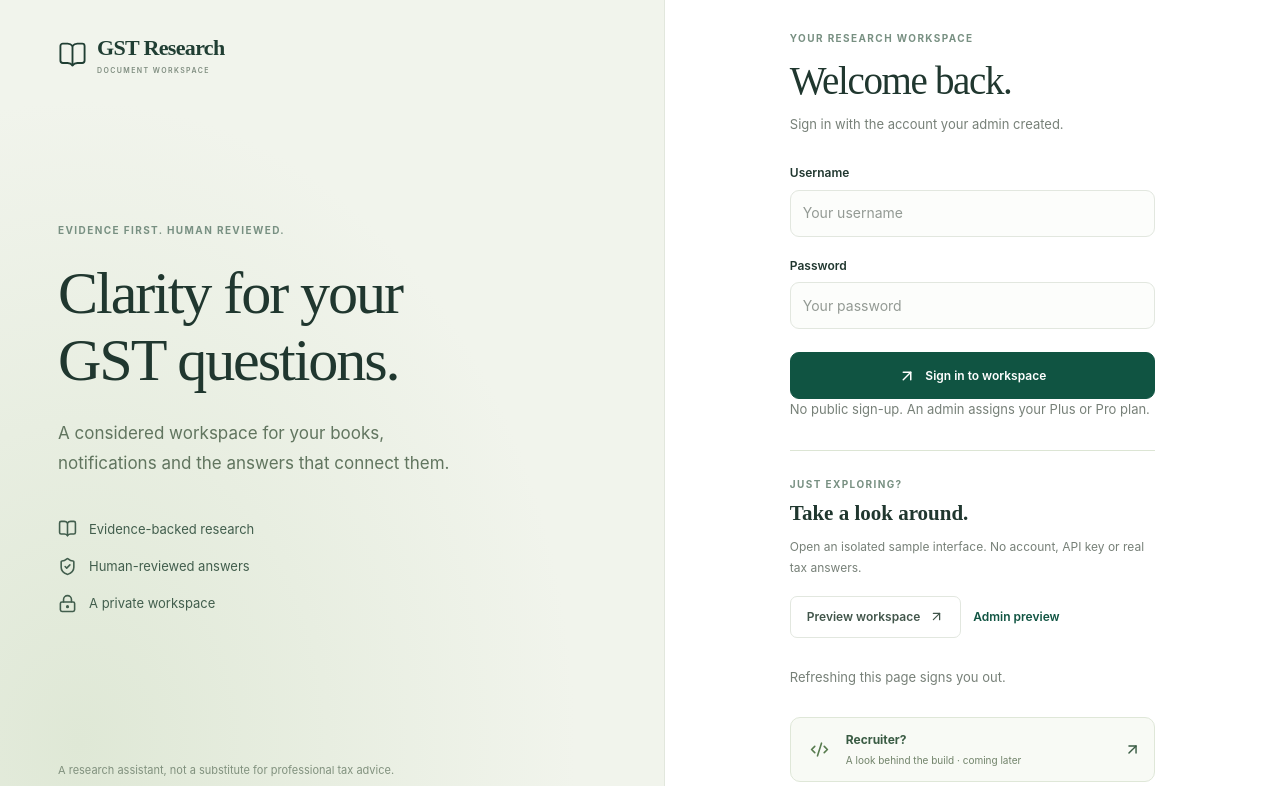
Test: User workspace › displays approved plain-text citations, never a PDF download link
Click the button "Preview workspace": click(876, 617) x1=790 y1=596 x2=961 y2=638
(page scrolled)
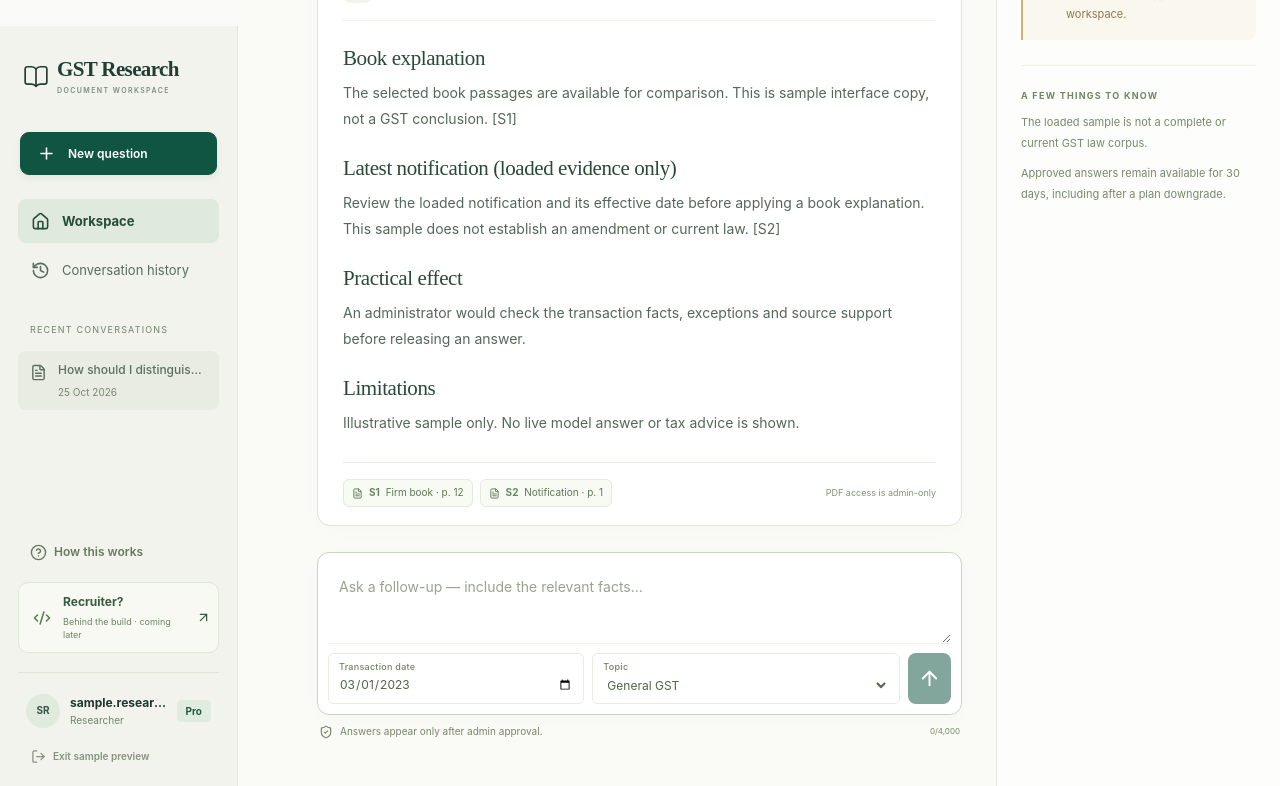
Result: the text "S1 Firm book · p. 12" is shown at x1=369 y1=485 x2=464 y2=501
